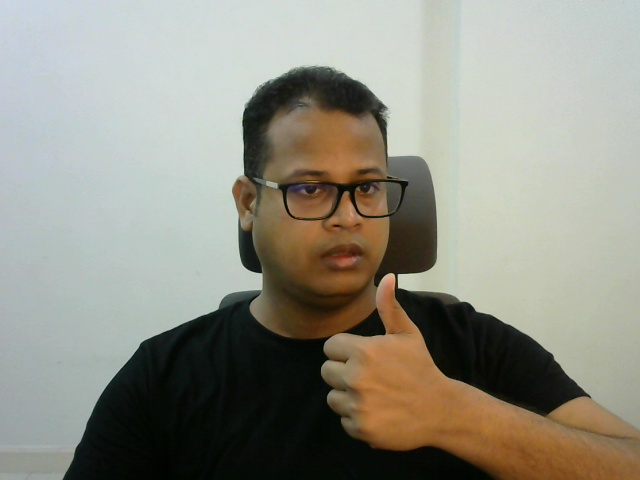ThumbsUp: (321, 272, 442, 451)
